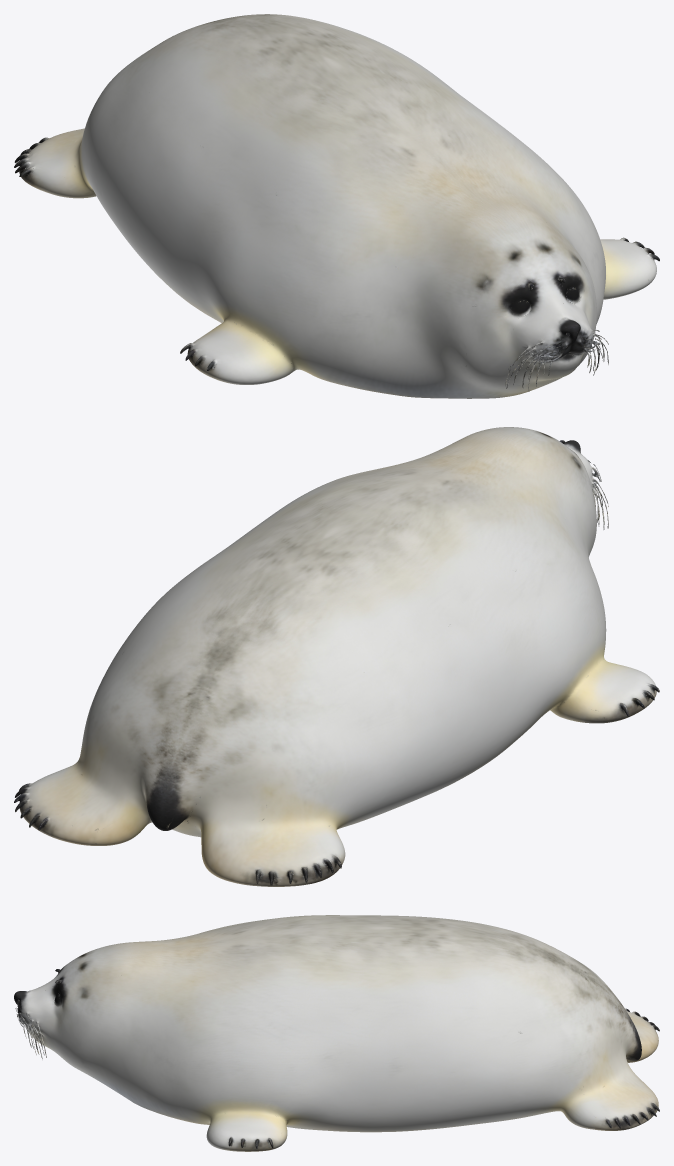
File: seal.glb
3 views of the same model, one above another, from view 1: azimuth 30°, elevation 25°; view 2: azimuth 150°, elevation 25°; view 3: azimuth 270°, elevation 25° (orthographic). The views are drawn at different scales.
Bounding box in the file's own units: 1.24 × 0.5184 × 2.
Materials: 1 (1 with a texture image).
